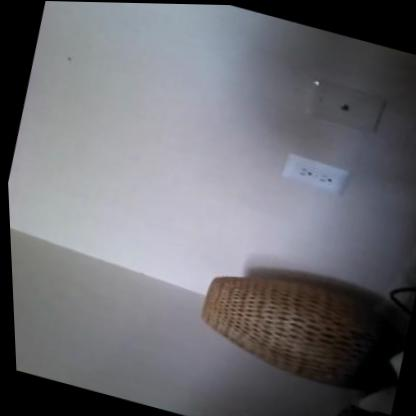OUTLET: (280, 151, 350, 194)
